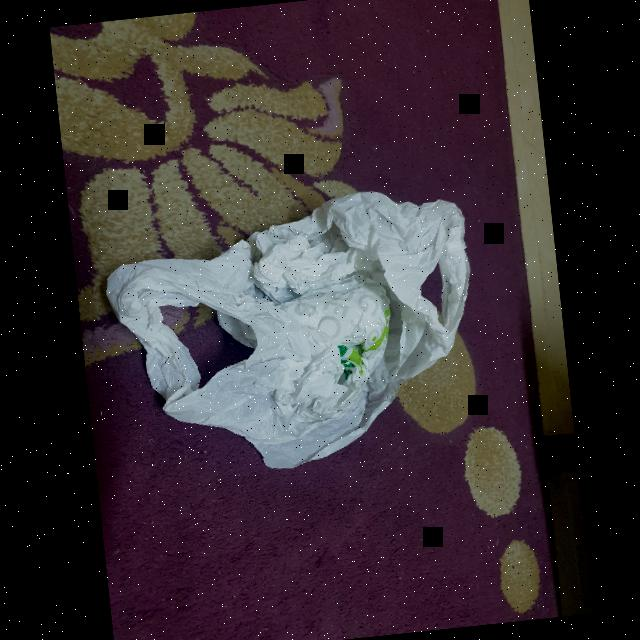plastic_bag: (91, 174, 500, 496)
